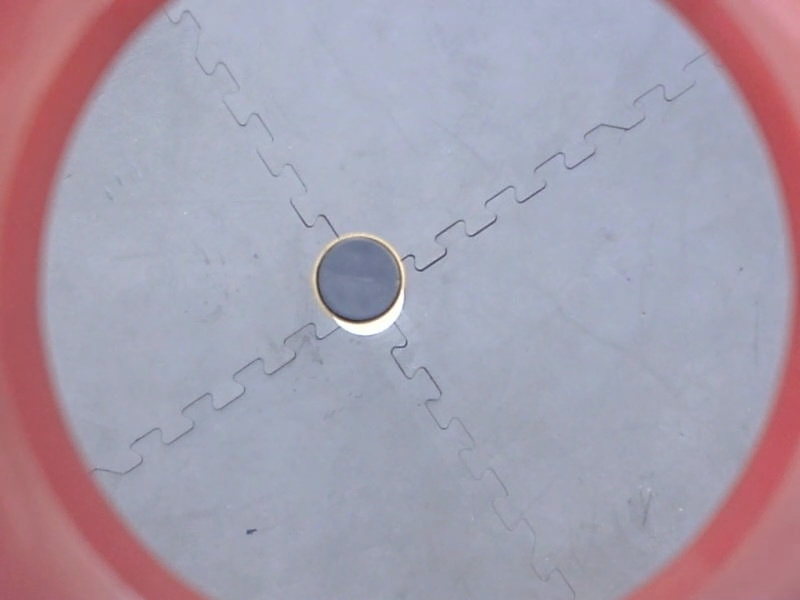tip: (309, 232, 408, 329)
